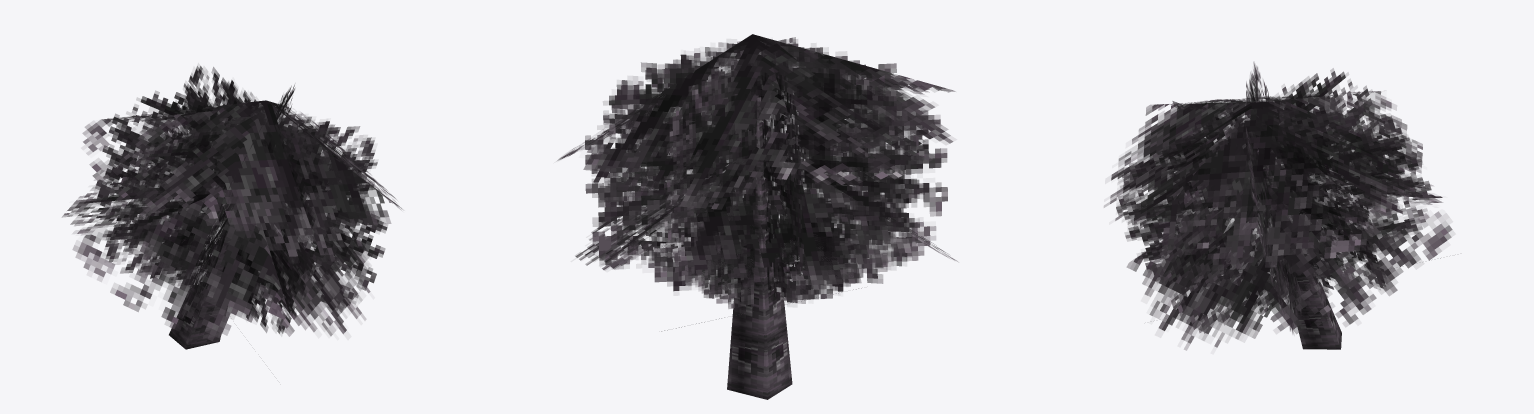
Rendered from Environment - Debris and Ruins - Rubble Mound - Debris - PMDsrtPple_D.glb.
The picture shows the model from 3 angles, left to right: view 1: azimuth 30°, elevation 25°; view 2: azimuth 150°, elevation 25°; view 3: azimuth 270°, elevation 25°; orthographic projection. The views are drawn at different scales.
Parts seen in each view (by area): view 1: PMDSRTPPLE_D; view 2: PMDSRTPPLE_D; view 3: PMDSRTPPLE_D.
Part boxes in pixels (left/top/right/bottom): PMDSRTPPLE_D: left=62, top=66, right=402, bottom=349; PMDSRTPPLE_D: left=557, top=34, right=957, bottom=399; PMDSRTPPLE_D: left=1104, top=62, right=1452, bottom=350.
Bounding box in the file's own units: 10.22 × 7.32 × 10.07.
Materials: 1 (1 with a texture image).
